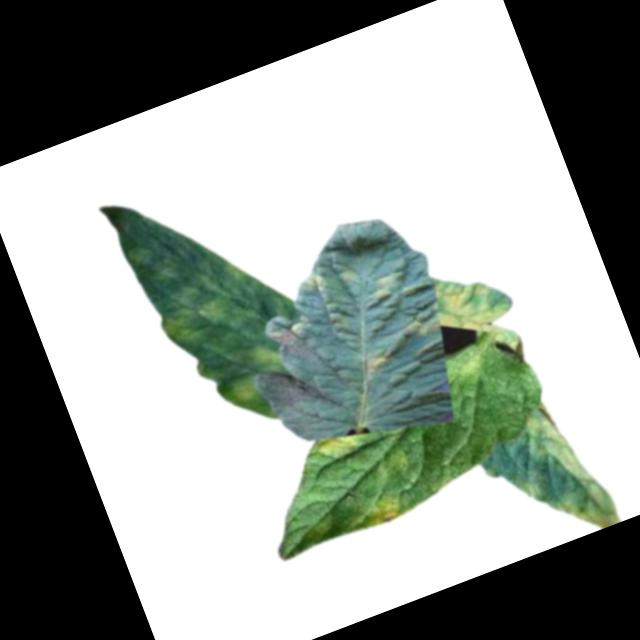Leaf_Mold: (492, 388, 629, 551), (423, 254, 528, 372), (146, 250, 263, 352), (355, 487, 407, 529), (313, 423, 365, 465), (293, 264, 337, 305), (249, 337, 289, 380), (402, 302, 446, 340), (367, 267, 408, 305), (358, 347, 397, 378), (228, 370, 261, 404), (337, 261, 364, 289)
